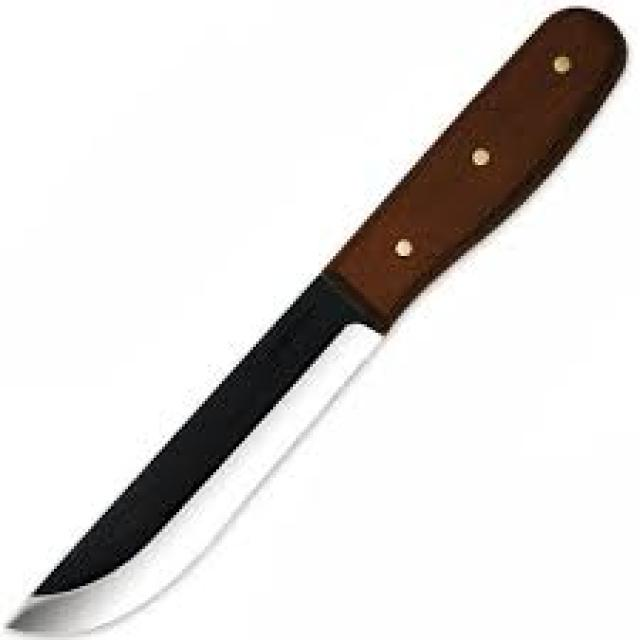knife: (1, 1, 639, 639)
